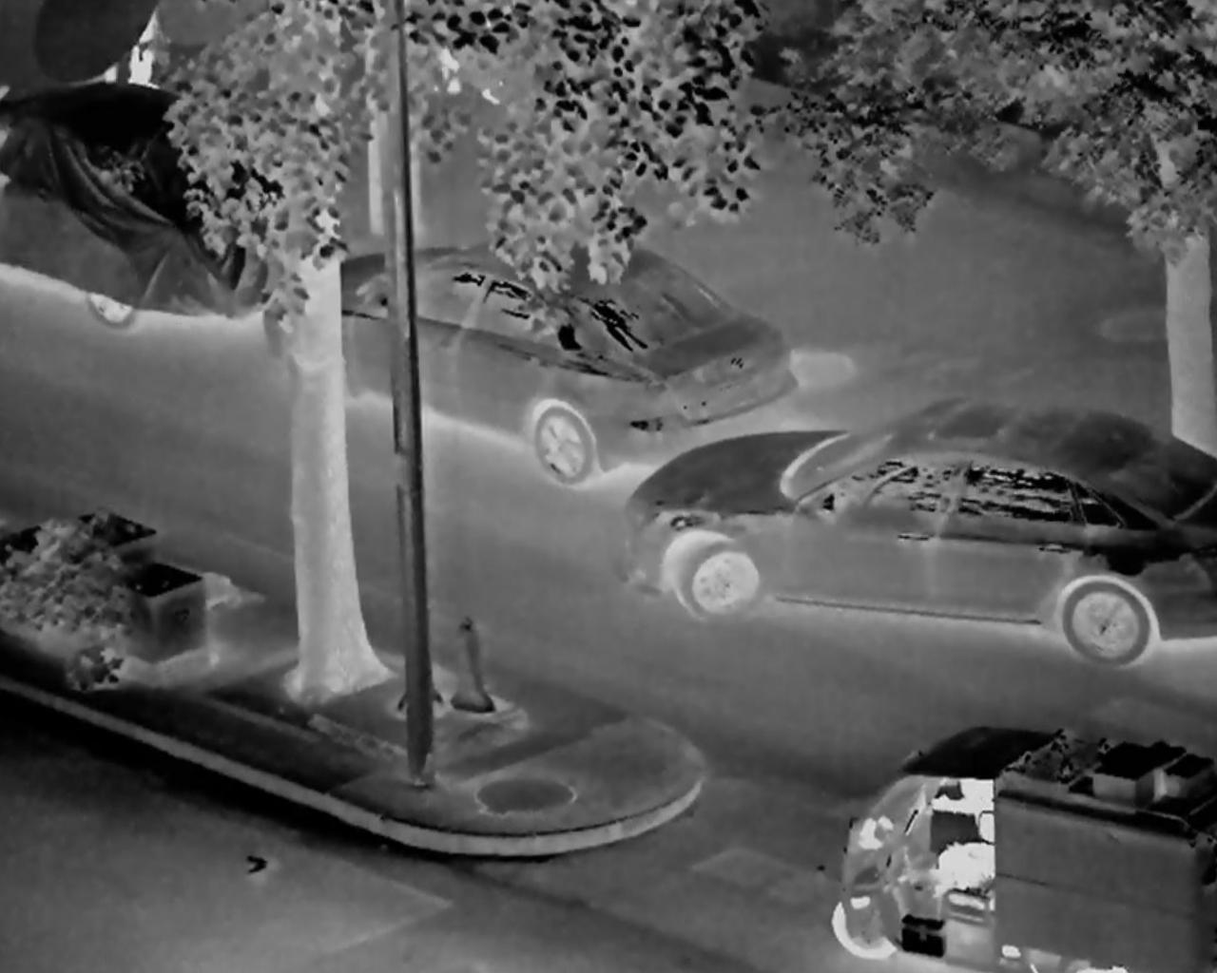person: (935, 768, 997, 916)
